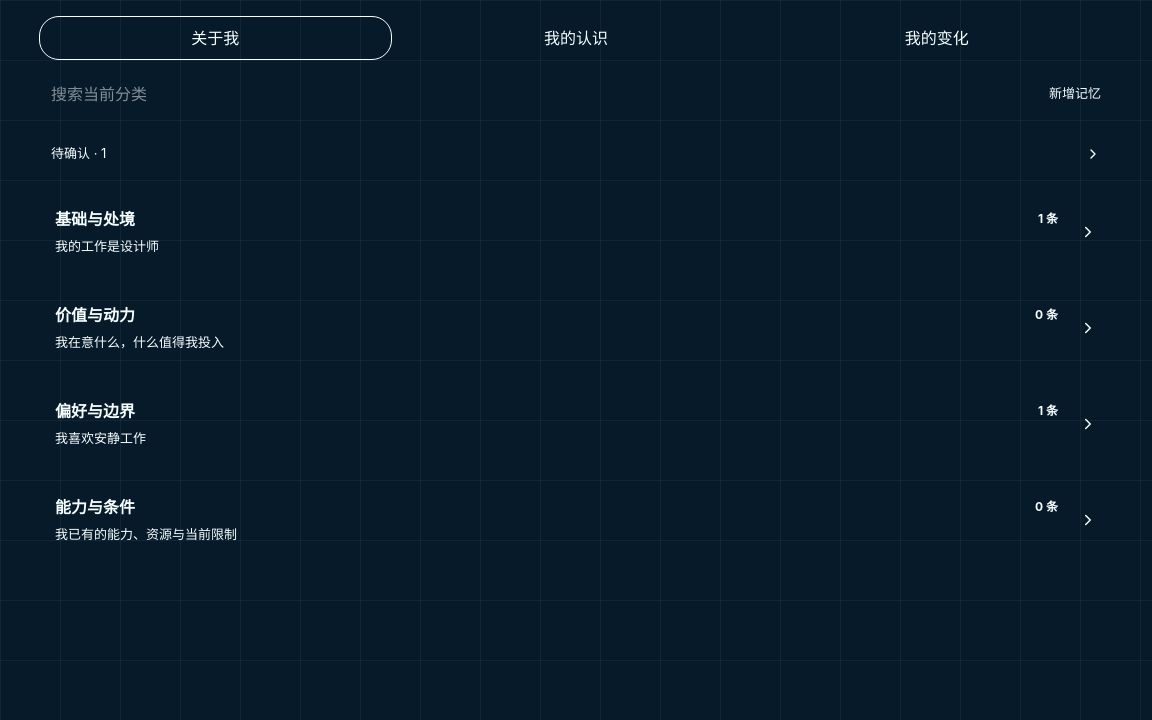
Test: searches confirmed facts across drawers, excludes candidates and clears search on return and scope change
This screenshot has width=1152, height=720.
Expected: the button "偏好与边界 1 条 我喜欢安静工作" is shown, [39,380,1113,468]
Type "工作" into the search field named "搜索记忆" at (534, 94), box [39,72,1029,116]
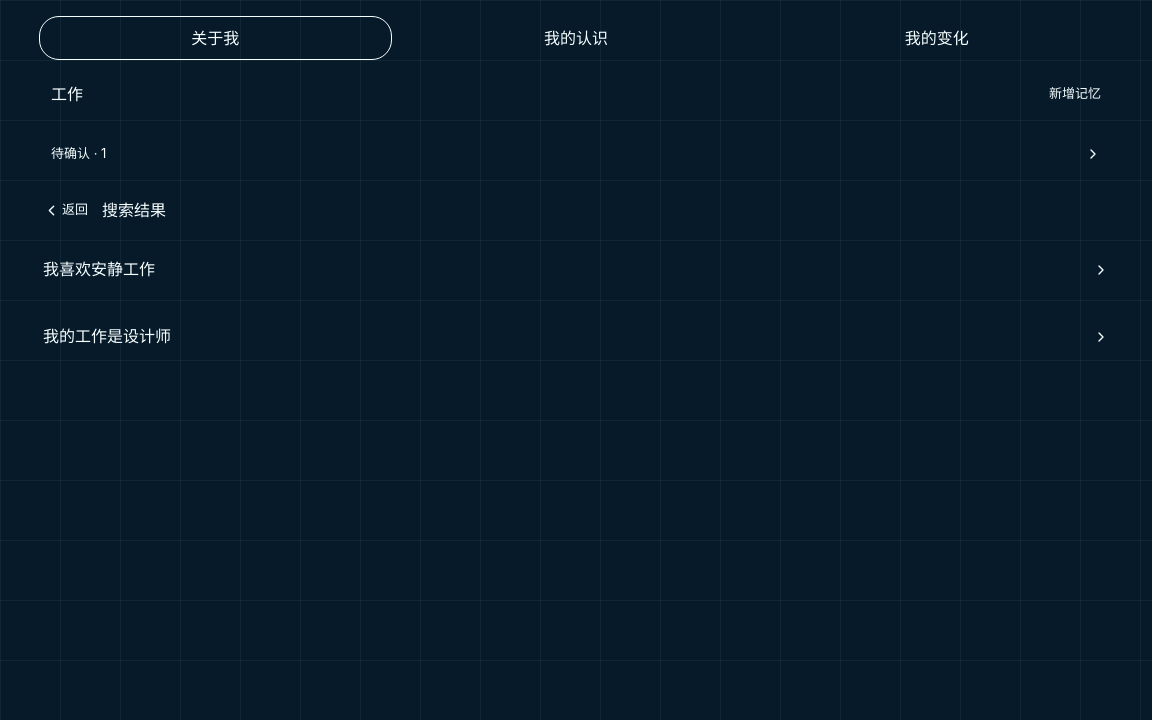
Expected: the button "我喜欢安静工作" is shown, [39,236,1113,303]
Expected: the button "我的工作是设计师" is shown, [39,303,1113,370]
Click the button "返回" at (66, 210), box [39,190,92,230]
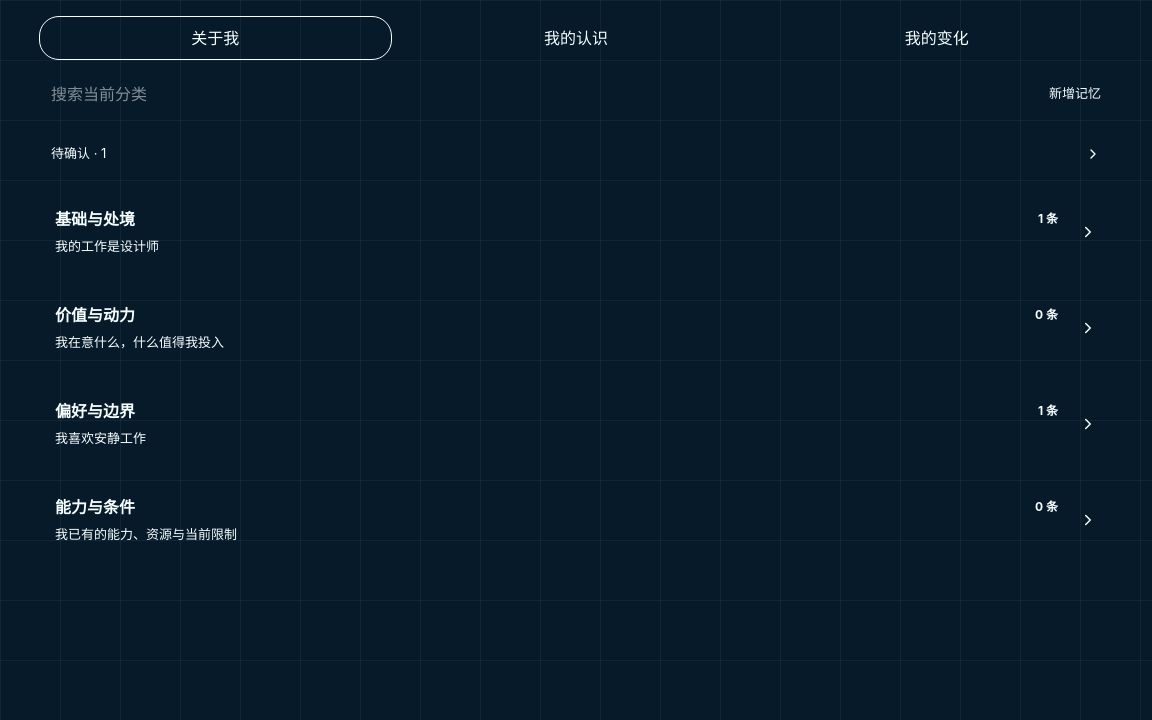
Expected: the search field is empty
Expected: the button "偏好与边界 1 条 我喜欢安静工作" is shown, [39,380,1113,468]
Type "工作" into the search field at (534, 94), box [39,72,1029,116]
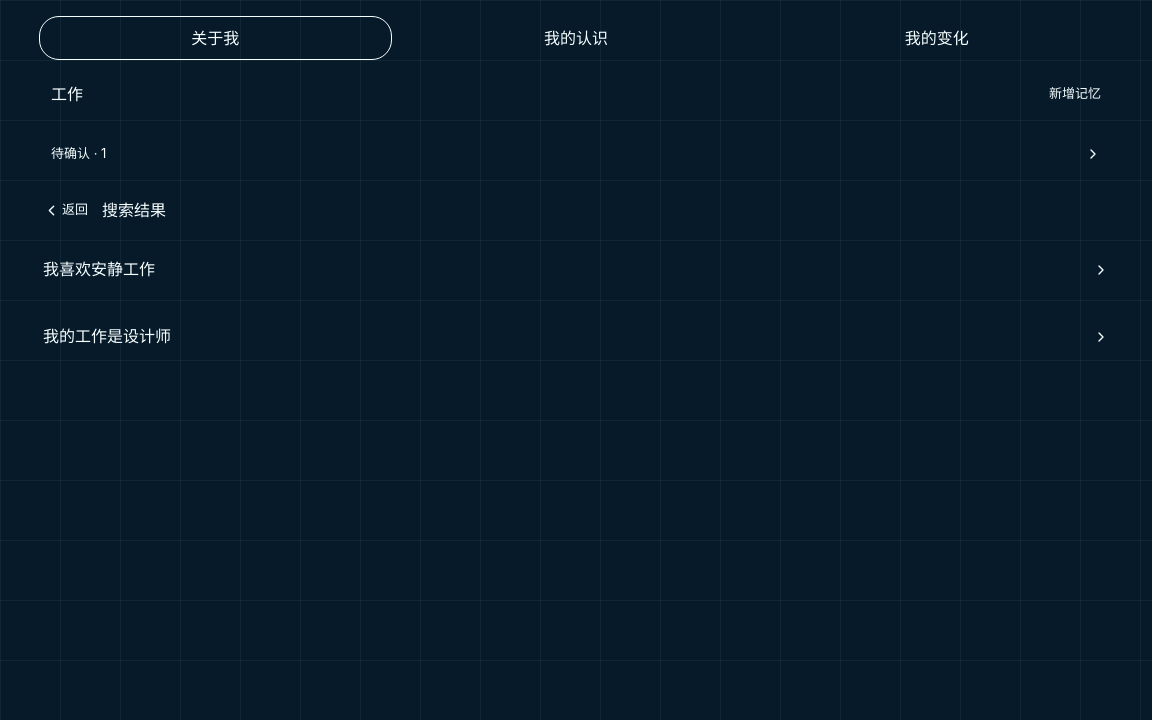
Click the button "我的认识" at (576, 38), box [400,16,752,60]
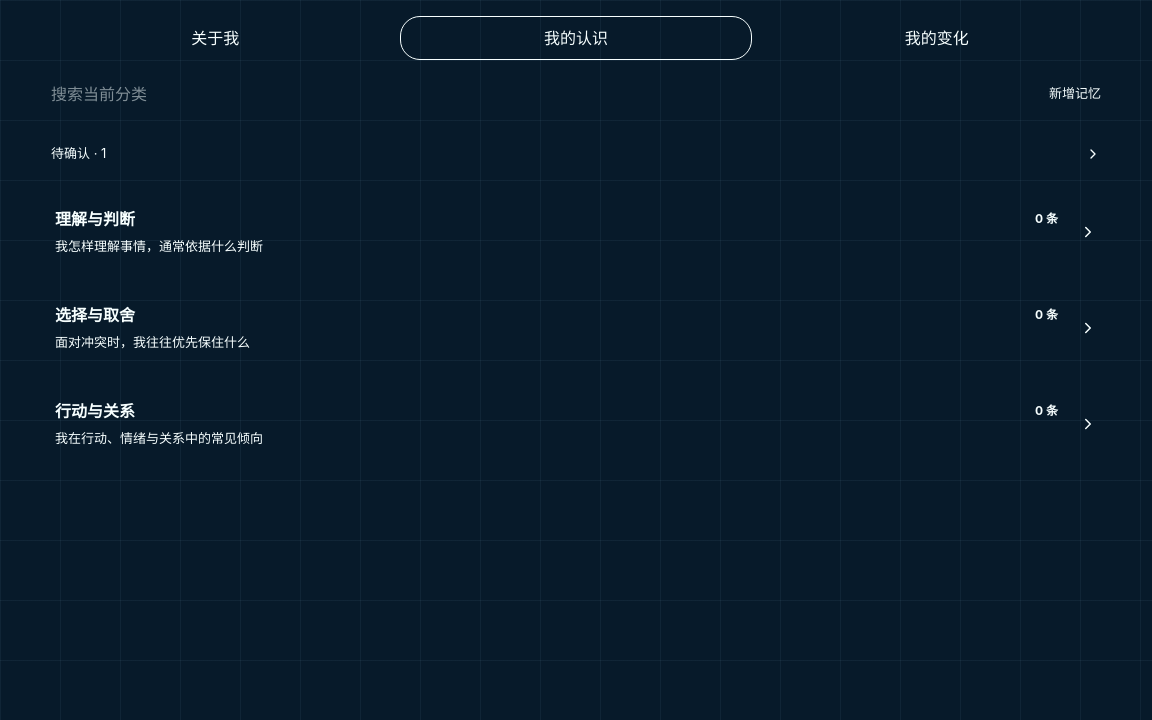
Expected: the search field is empty, [39,72,1029,116]
Expected: the button "我喜欢安静工作" is gone
